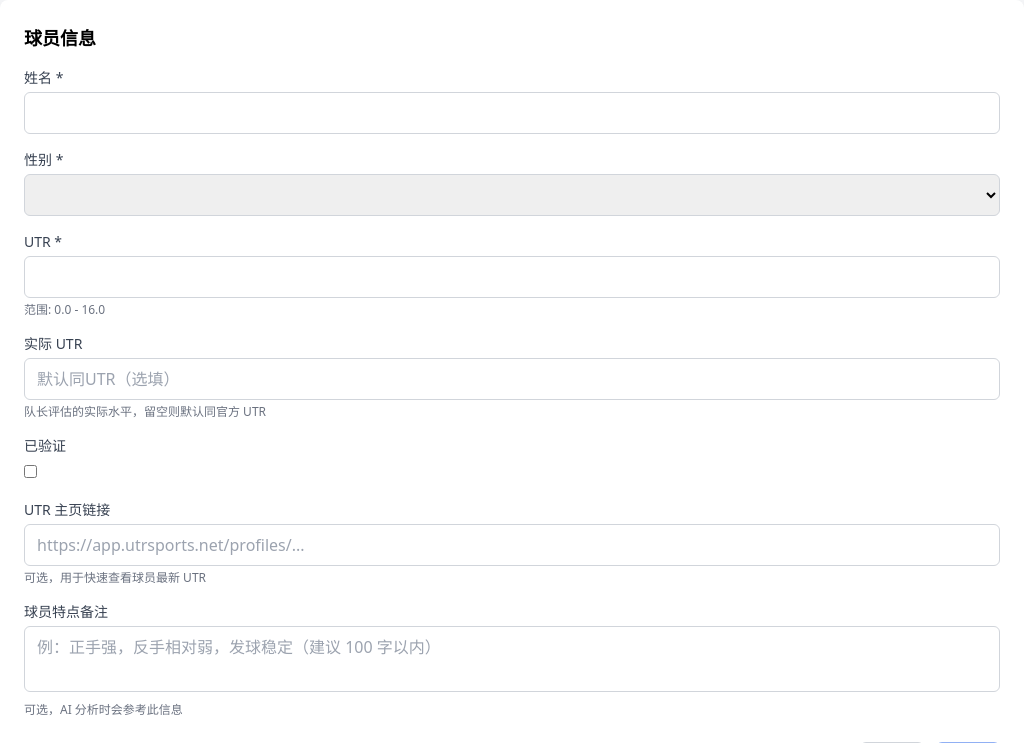
Test: PlayerForm › UTR 验证 › UTR 超过16时 blur 显示错误
The width and height of the screenshot is (1024, 743).
Type "17" into the 1st number field at {"x": 512, "y": 277}, box [24,256,1000,298]
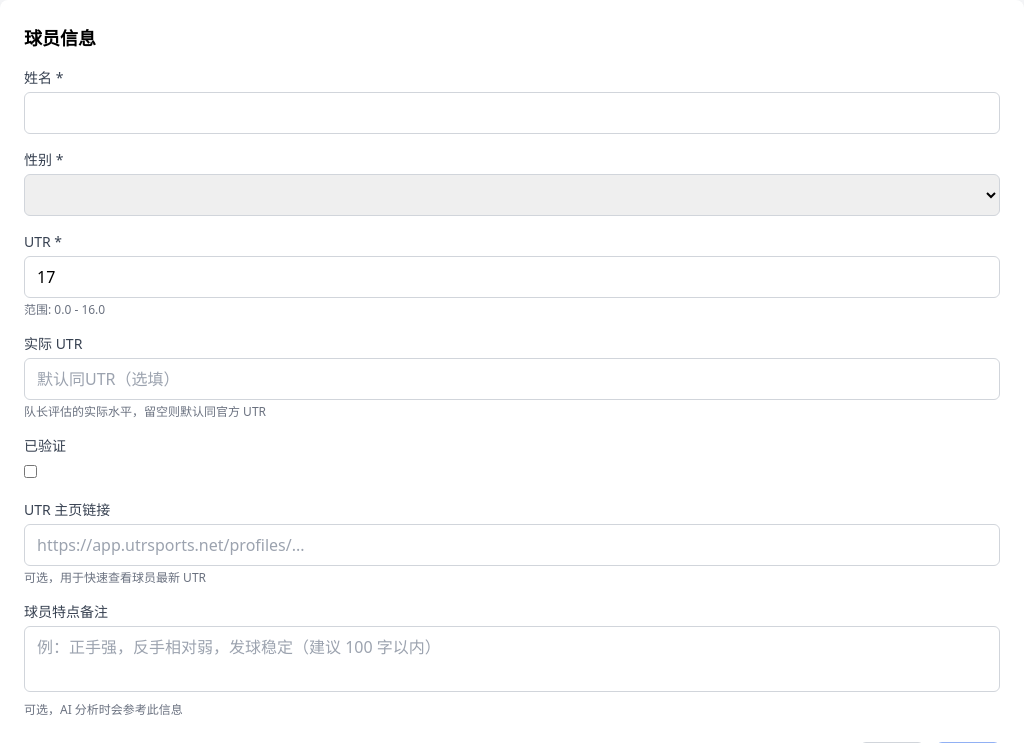
Leave the 1st number field, box [24,256,1000,298]
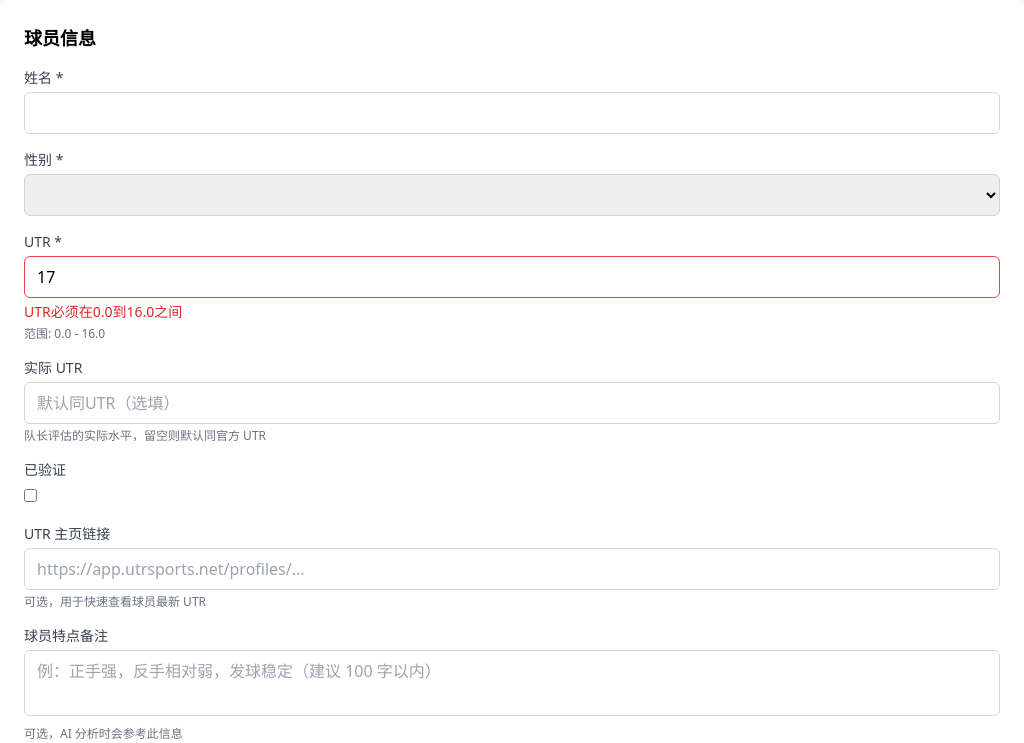
Expected: the text "UTR必须在0.0到16.0之间" is shown, [24,302,182,321]
